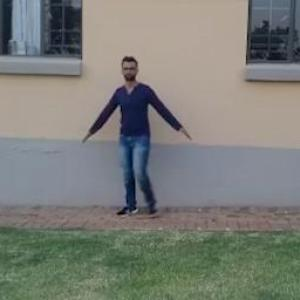land: (88, 62, 199, 232)
